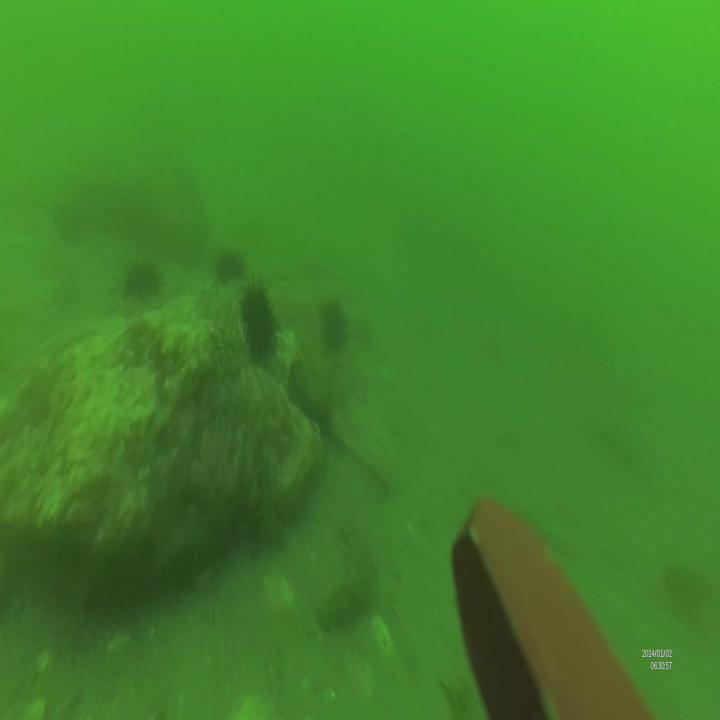echinus: (241, 269, 279, 361), (120, 258, 162, 304), (319, 300, 348, 357), (212, 242, 246, 285)
